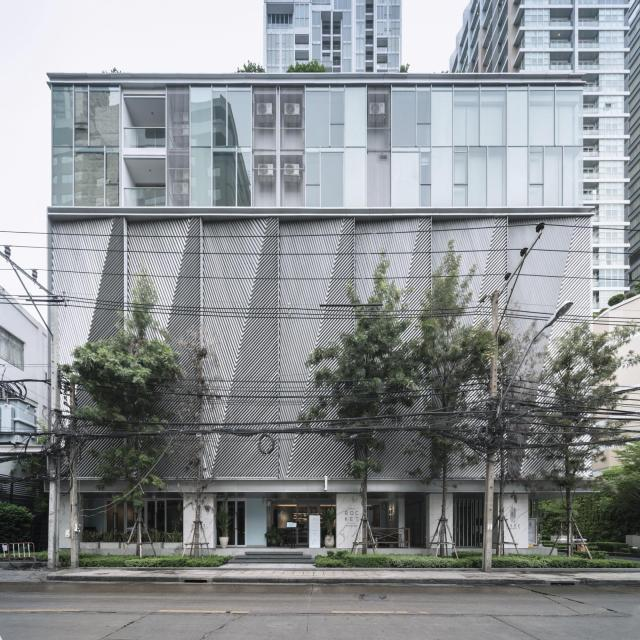Railing: (124, 187, 166, 206), (124, 128, 168, 146)
door: (226, 499, 247, 547), (106, 499, 127, 534), (145, 500, 166, 532), (296, 505, 310, 546)
plant: (300, 252, 420, 554), (57, 268, 183, 554), (408, 240, 508, 553), (536, 322, 640, 553), (538, 442, 640, 544)
wall: (46, 73, 592, 554)
windows: (453, 87, 506, 209), (530, 90, 584, 206), (303, 86, 344, 206), (390, 91, 431, 207), (54, 86, 118, 146), (54, 152, 118, 205), (212, 89, 252, 147), (212, 152, 253, 208), (268, 498, 299, 546)
